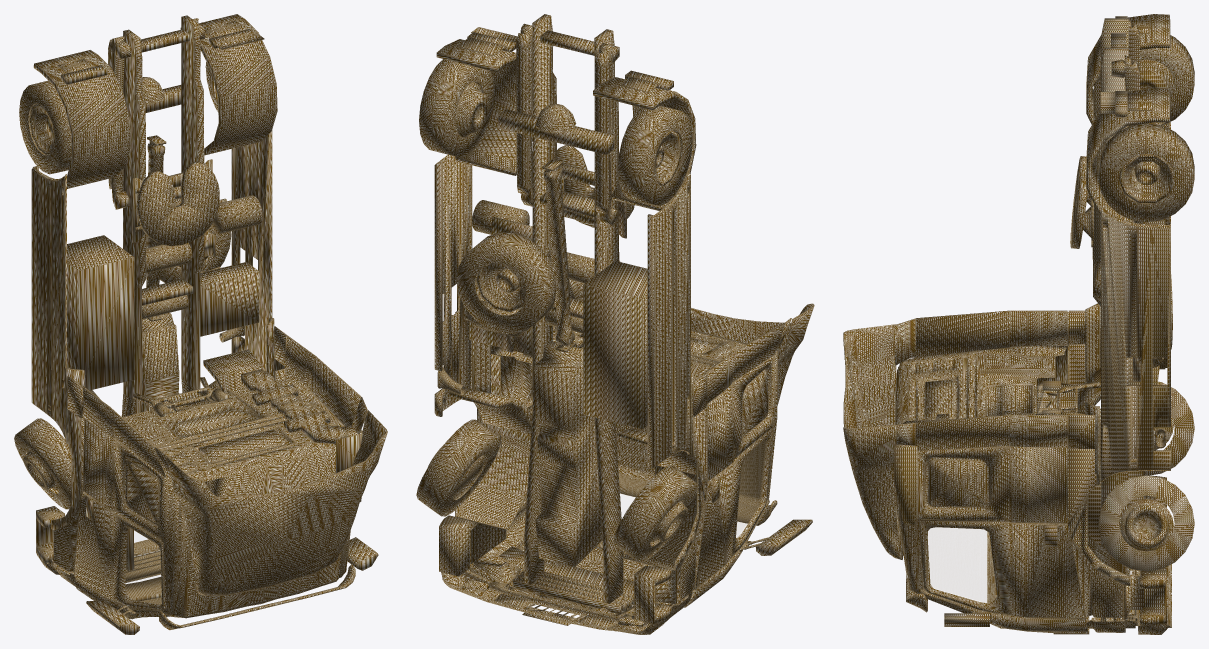
The model's file is truck_001.obj.
3 views of the same model, side by side, from view 1: azimuth 30°, elevation 25°; view 2: azimuth 150°, elevation 25°; view 3: azimuth 270°, elevation 25° (orthographic). The views are drawn at different scales.
Bounding box in the file's own units: 2.96 × 5.7 × 3.24.
